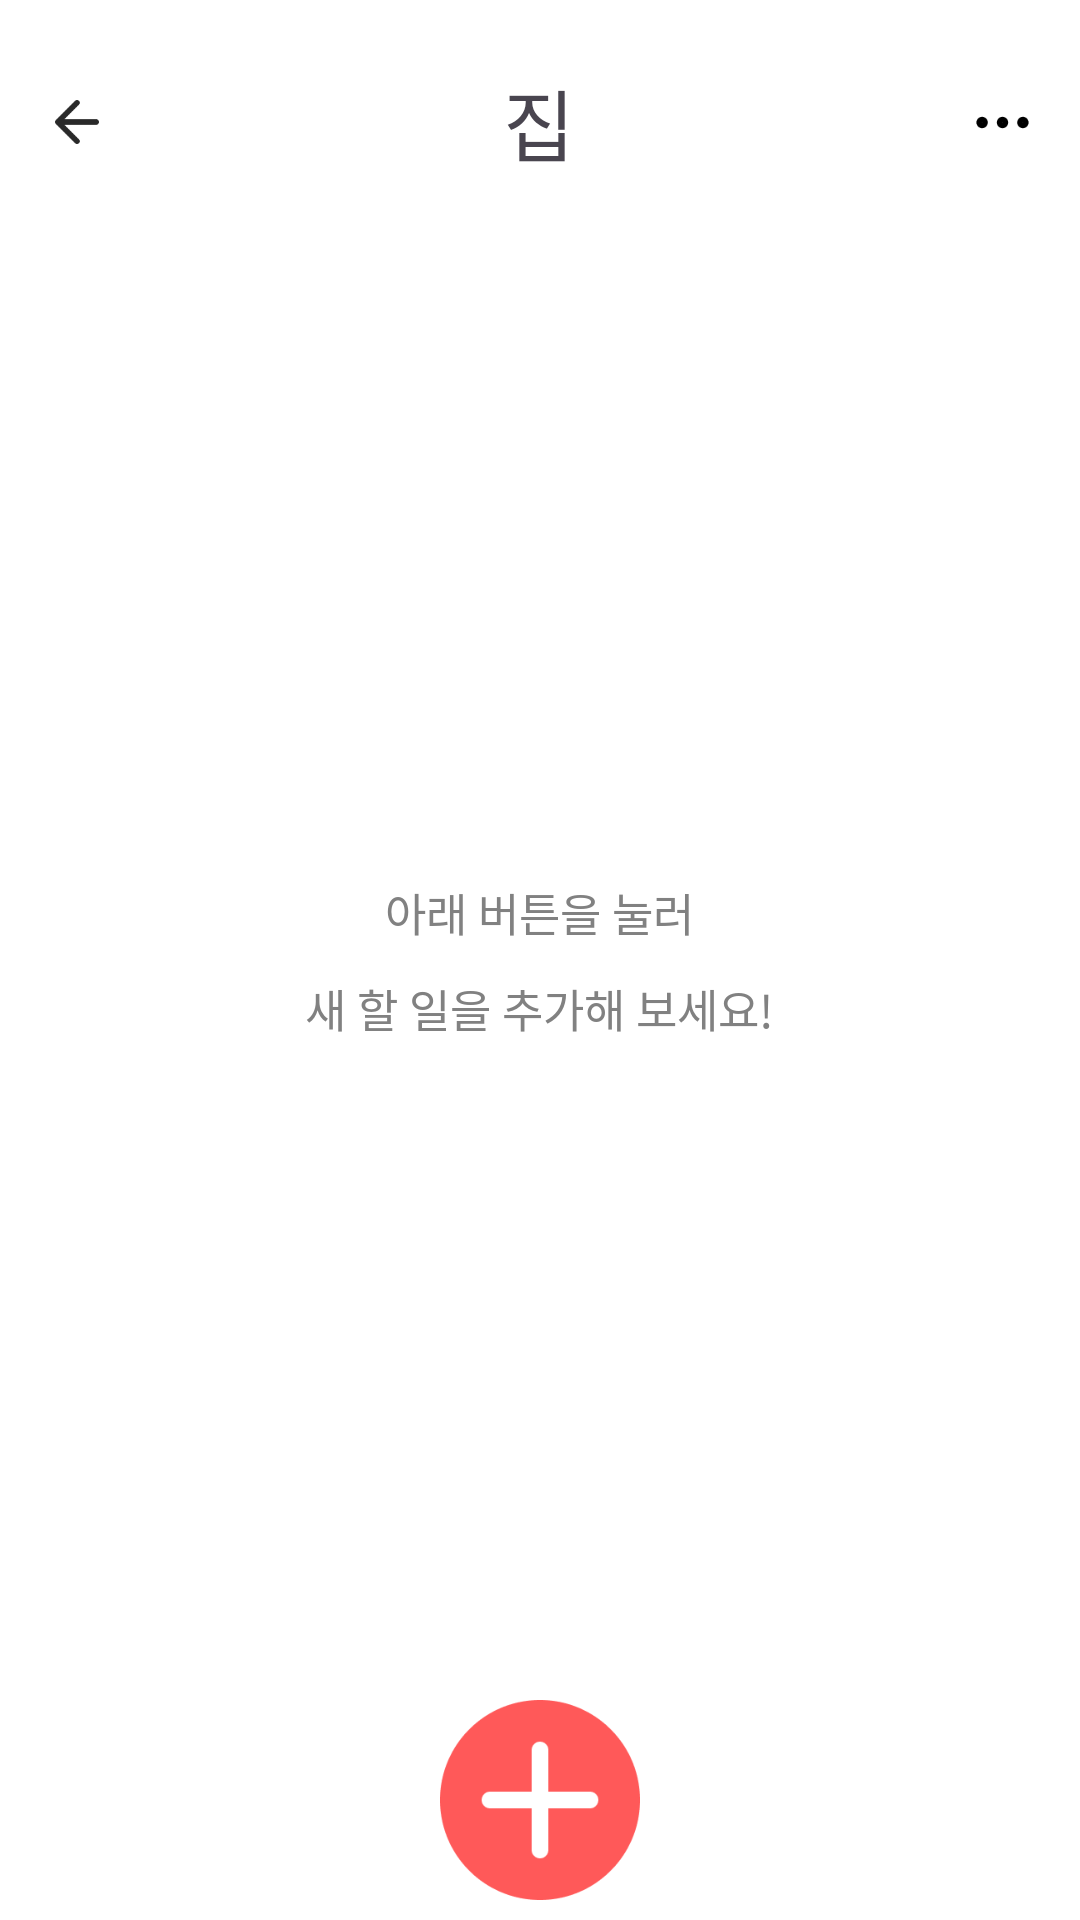

Where to tap for icons on this 1080x1920 app screen, as (x,y):
back: (77,122)
more: (1002,122)
plus: (540,1800)
